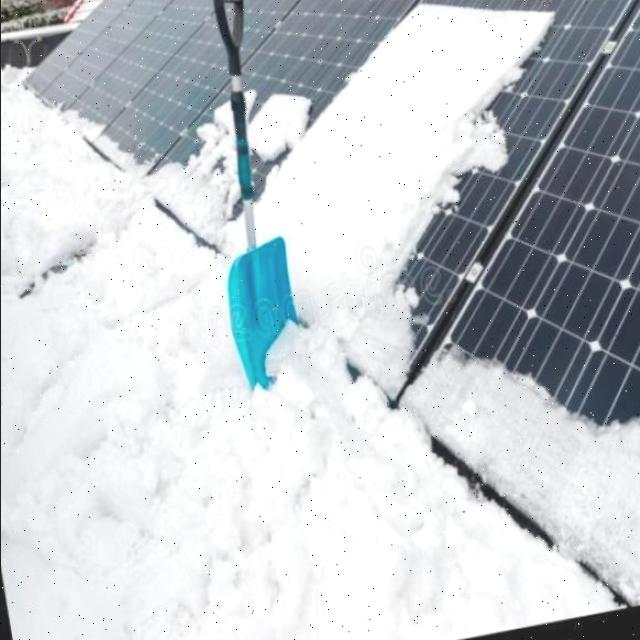Anomaly Solar Panel: (217, 0, 634, 398), (397, 1, 640, 603), (138, 0, 408, 244), (94, 0, 295, 177), (59, 0, 220, 139)
Snow: (251, 0, 551, 396), (406, 339, 640, 598), (136, 91, 252, 262), (52, 96, 155, 170), (249, 87, 311, 152)
